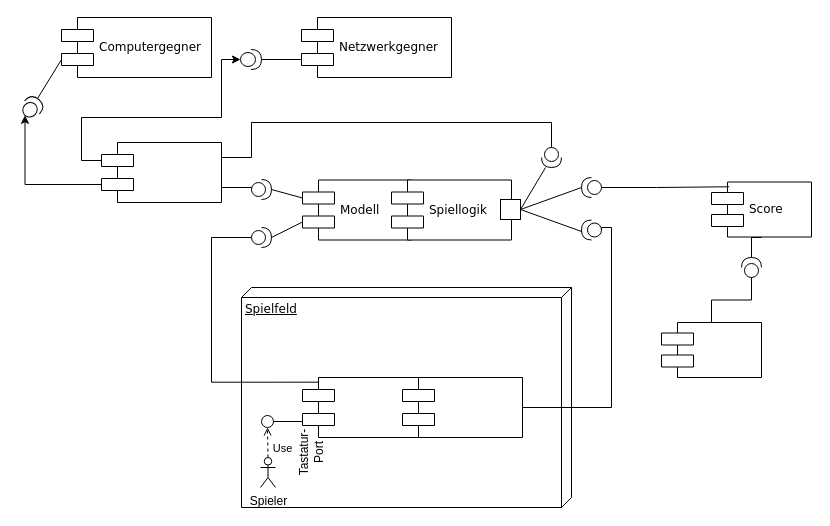
Some shapes in this 830 by 526 pixel diagram are drawn without their labels. The shapes that lost their labels are listed below. From the top down, each one's centre as x and y in pixels, then its label:
At point 161,172: "Gegner".
At point 711,350: "Highscore".
At point 362,407: "Controller".
At point 462,407: "View".
